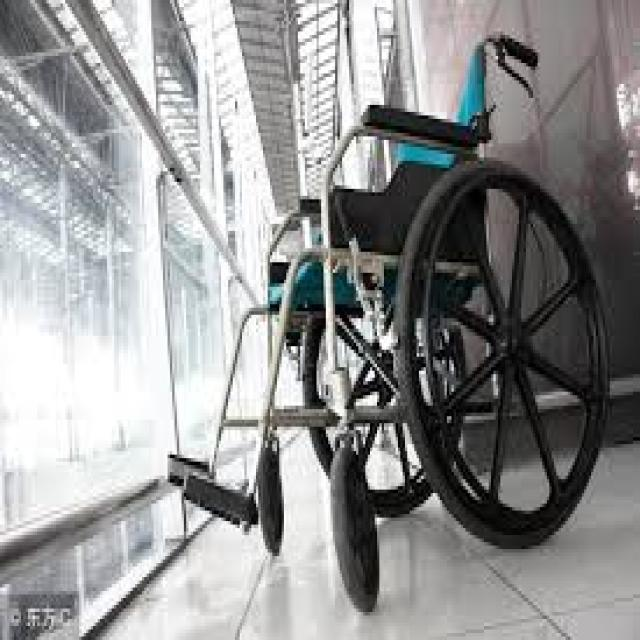wheelchairs: (165, 25, 619, 612)
